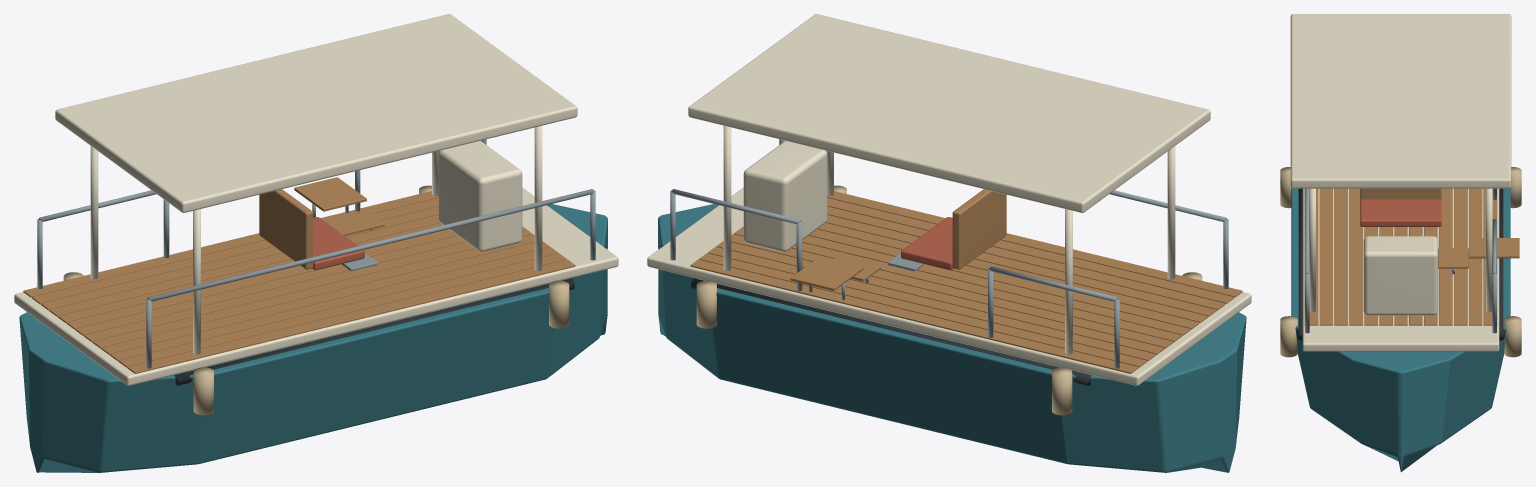
The model's file is ferry.glb.
3 views of the same model, side by side, from view 1: azimuth 30°, elevation 25°; view 2: azimuth 150°, elevation 25°; view 3: azimuth 270°, elevation 25° (orthographic). The views are drawn at different scales.
Visible parts, largest first — view 1: closed petrol hull, passenger canopy, deck, helm console, deck boards.012, deck boards.009, deck boards.010, deck boards.011, deck boards.008, deck boards.007, passenger back, deck boards.006 (+17 smaller); view 2: closed petrol hull, passenger canopy, deck, helm console, deck boards, deck boards.001, deck boards.002, deck boards.003, passenger back, deck boards.005, deck boards.006, deck boards.004 (+17 smaller); view 3: passenger canopy, closed petrol hull, deck, helm console, passenger seat cushion, deck boards.010, deck boards.011, deck boards.009, deck boards.002, deck boards.001, deck boards.003, passenger back (+21 smaller).
Part boxes in pixels (bbox=[...]): closed petrol hull: bbox=[19, 204, 607, 472]; passenger canopy: bbox=[55, 14, 577, 212]; deck: bbox=[14, 187, 618, 385]; helm console: bbox=[438, 141, 522, 251]; deck boards.012: bbox=[127, 259, 575, 373]; deck boards.009: bbox=[101, 241, 549, 354]; deck boards.010: bbox=[110, 246, 557, 361]; deck boards.011: bbox=[118, 253, 566, 367]; deck boards.008: bbox=[92, 234, 534, 348]; deck boards.007: bbox=[84, 227, 531, 342]; passenger back: bbox=[259, 189, 313, 269]; deck boards.006: bbox=[75, 226, 523, 335]; closed petrol hull: bbox=[658, 204, 1246, 472]; passenger canopy: bbox=[688, 14, 1210, 212]; deck: bbox=[647, 187, 1251, 385]; helm console: bbox=[743, 141, 827, 251]; deck boards: bbox=[690, 259, 1138, 373]; deck boards.001: bbox=[699, 253, 1147, 367]; deck boards.002: bbox=[708, 246, 1155, 361]; deck boards.003: bbox=[716, 241, 1164, 354]; passenger back: bbox=[952, 189, 1006, 269]; deck boards.005: bbox=[734, 227, 1181, 342]; deck boards.006: bbox=[742, 226, 1190, 335]; deck boards.004: bbox=[731, 234, 1173, 348]; passenger canopy: bbox=[1290, 14, 1511, 188]; closed petrol hull: bbox=[1291, 188, 1510, 471]; deck: bbox=[1302, 188, 1499, 351]; helm console: bbox=[1363, 236, 1438, 315]; passenger seat cushion: bbox=[1360, 199, 1441, 226]; deck boards.010: bbox=[1334, 188, 1347, 325]; deck boards.011: bbox=[1319, 188, 1332, 325]; deck boards.009: bbox=[1349, 188, 1362, 325]; deck boards.002: bbox=[1454, 188, 1467, 325]; deck boards.001: bbox=[1469, 188, 1482, 325]; deck boards.003: bbox=[1439, 188, 1452, 325]; passenger back: bbox=[1360, 188, 1441, 199].
Size of the model in its own units: 8.35 by 4.17 by 3.56.
